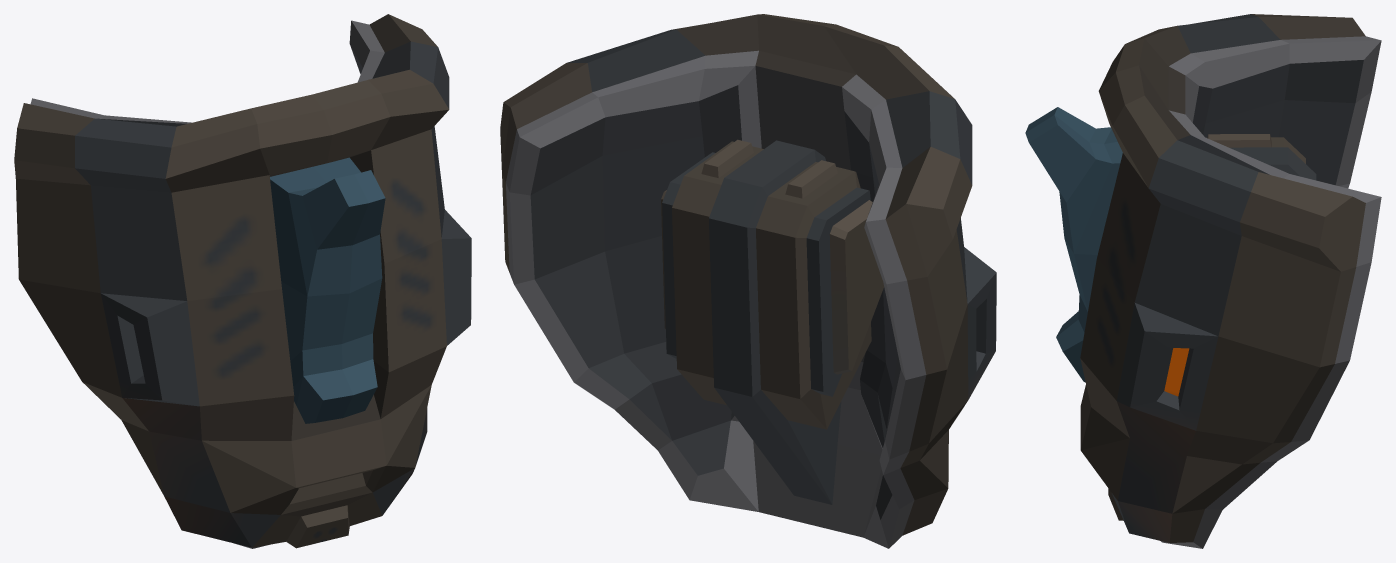
Rendered from SM_Mech_Arm_01_Armor_Shoulder_09.fbx.
The picture shows the model from 3 angles, left to right: view 1: azimuth 30°, elevation 25°; view 2: azimuth 150°, elevation 25°; view 3: azimuth 270°, elevation 25°; orthographic projection. The views are drawn at different scales.
Visible parts, largest first — view 1: SM_Mech_Arm_01_Armor_Shoulder_09; view 2: SM_Mech_Arm_01_Armor_Shoulder_09; view 3: SM_Mech_Arm_01_Armor_Shoulder_09.
Boxes of the visible parts, left/top/right/bottom form: SM_Mech_Arm_01_Armor_Shoulder_09: left=14, top=14, right=471, bottom=548; SM_Mech_Arm_01_Armor_Shoulder_09: left=500, top=14, right=996, bottom=548; SM_Mech_Arm_01_Armor_Shoulder_09: left=1025, top=14, right=1381, bottom=548.
Size of the model in its own units: 91.85 by 94.91 by 67.55.
